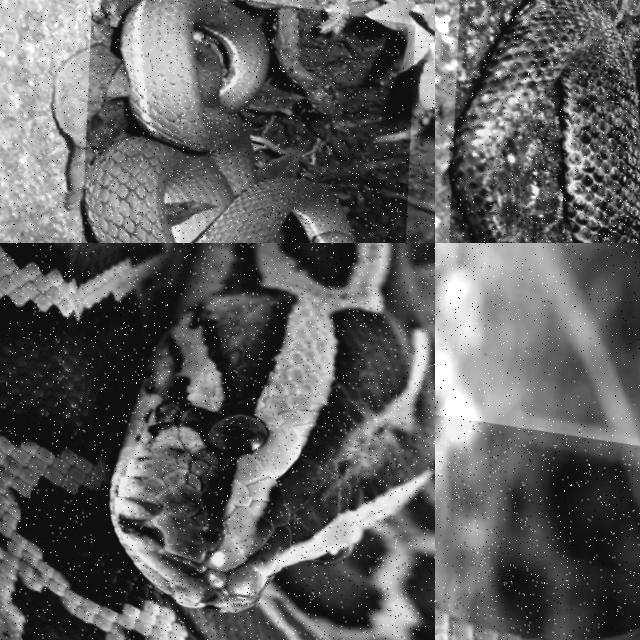Naja kaouthia: (435, 607, 542, 639)
Ovophis monticola: (452, 0, 639, 242)
Python bivittatus: (0, 243, 434, 639)
Trimeresurus: (83, 0, 353, 242)
